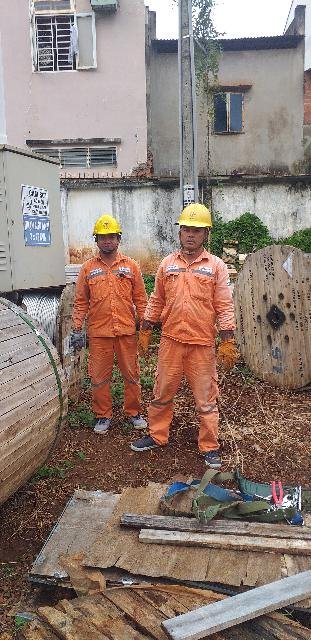gloves: (203, 330, 240, 368), (133, 326, 153, 353), (69, 325, 87, 351)
helmet: (172, 200, 217, 234), (81, 208, 129, 236)
shoes: (126, 432, 168, 453), (86, 413, 113, 437), (122, 409, 145, 431), (201, 448, 220, 474)
